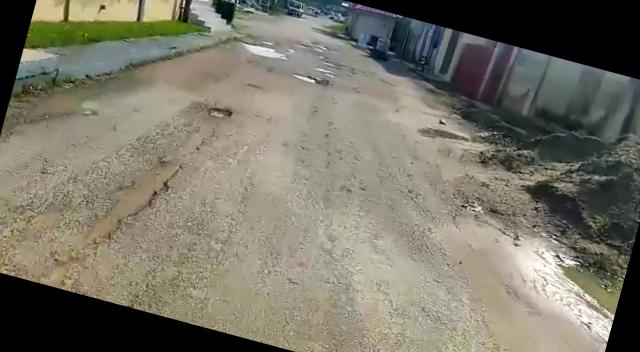pothole: (235, 37, 291, 64), (288, 69, 326, 87), (206, 102, 233, 122)
